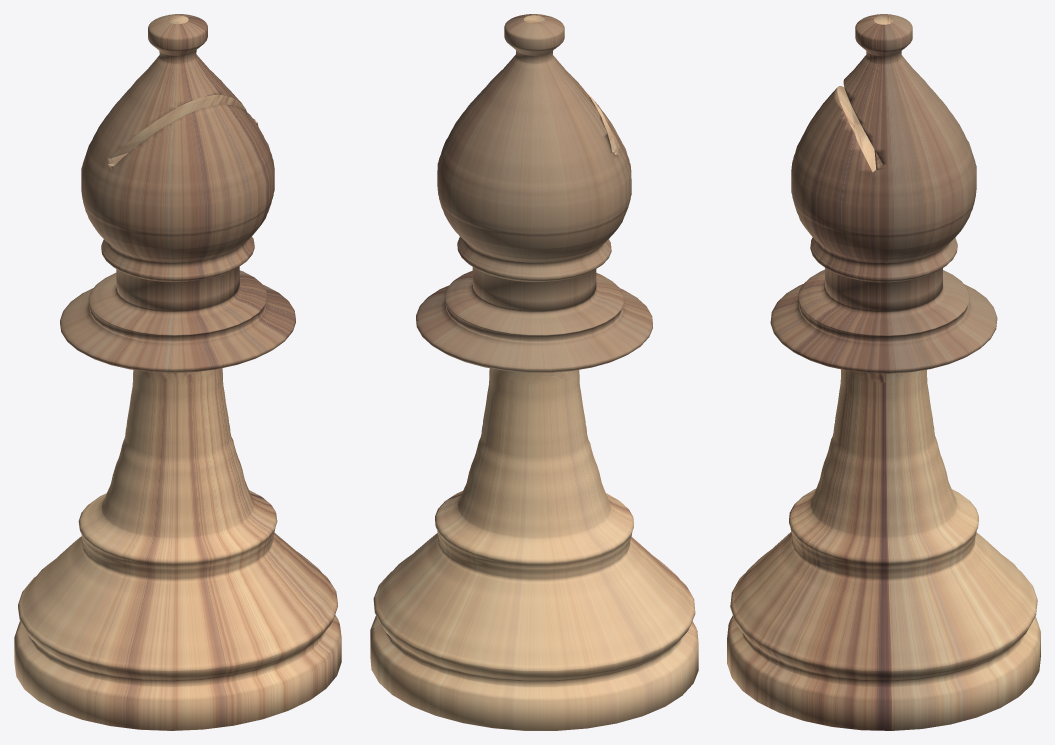
File: chess_bishop.glb
3 renders of one model, left to right at view 1: azimuth 30°, elevation 25°; view 2: azimuth 150°, elevation 25°; view 3: azimuth 270°, elevation 25°, orthographic.
Parts seen in each view (by area): view 1: Cylinder_1; view 2: Cylinder_1; view 3: Cylinder_1.
Boxes of the visible parts, left/top/right/bottom form: Cylinder_1: left=14, top=14, right=341, bottom=730; Cylinder_1: left=370, top=14, right=698, bottom=730; Cylinder_1: left=727, top=14, right=1040, bottom=730.
Bounding box in the file's own units: 2.02 × 4.33 × 1.91.
1 material, 1 textured.
